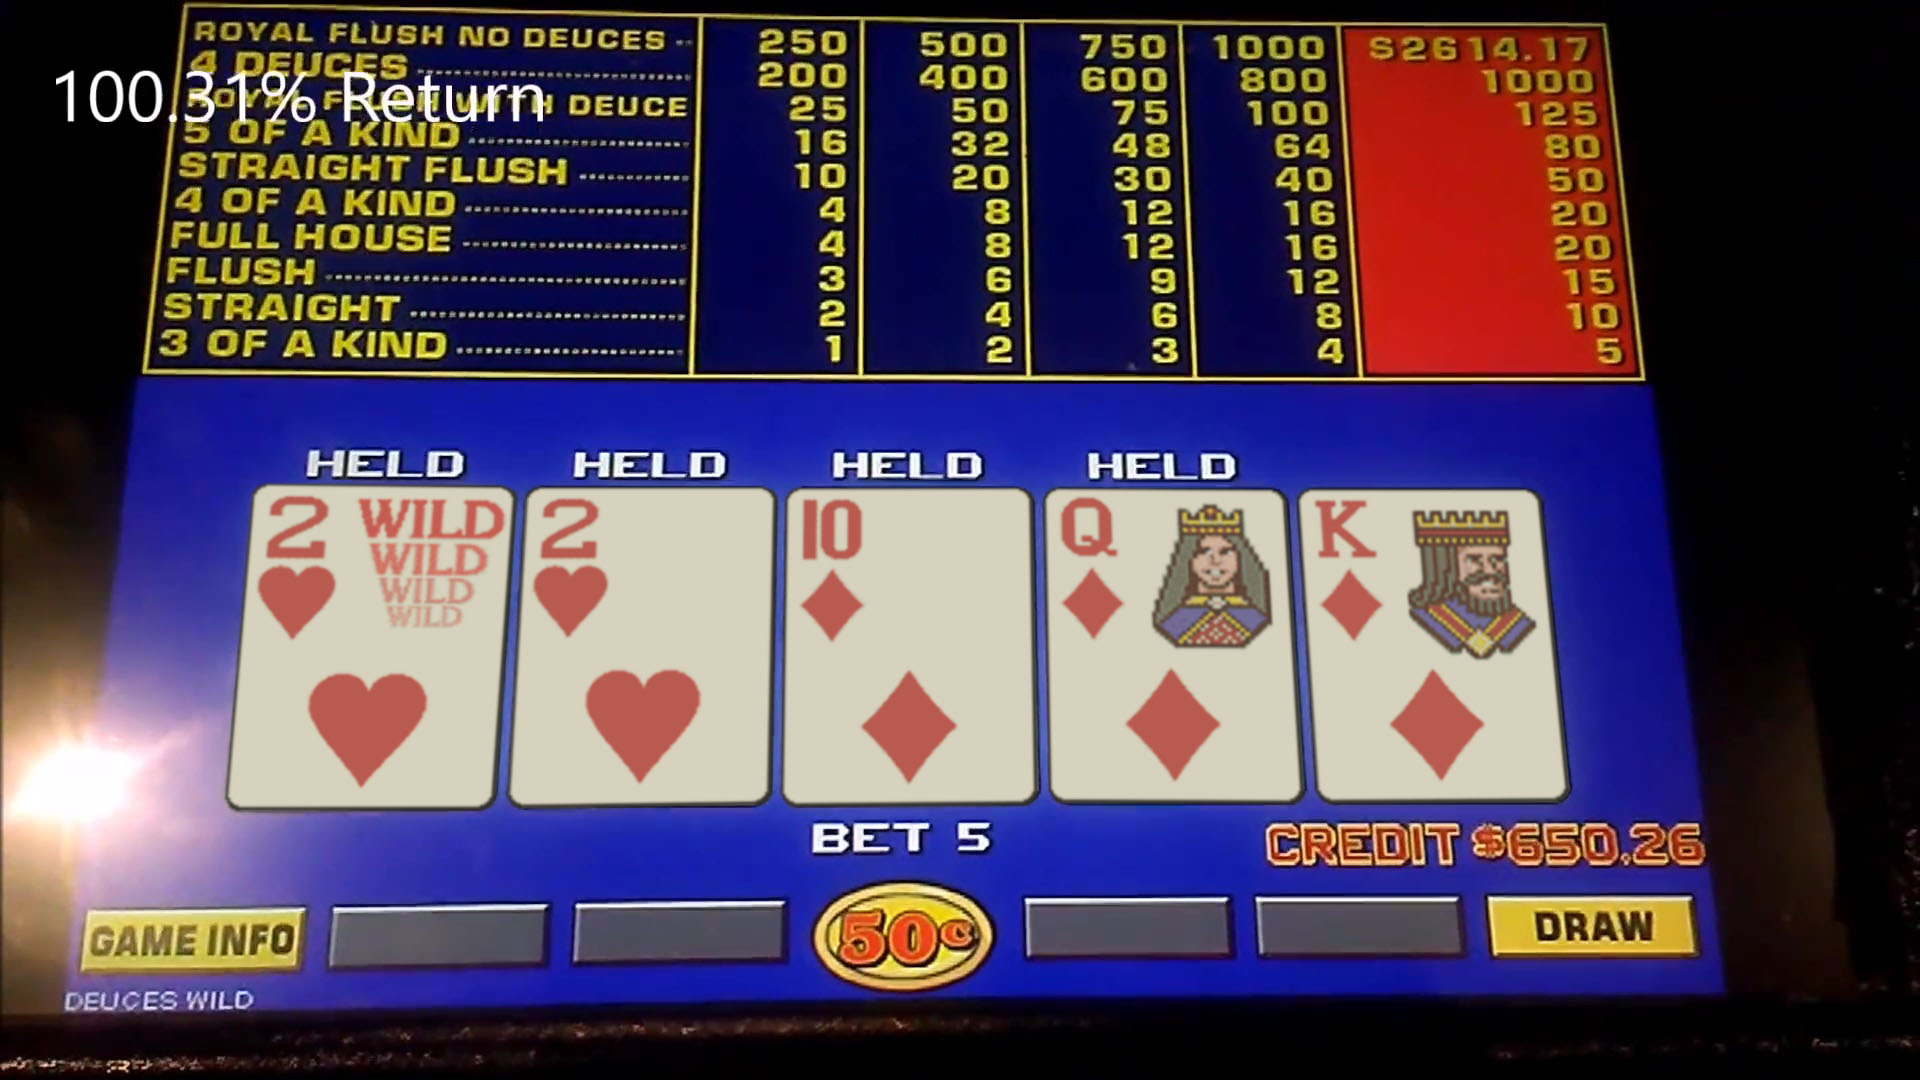DK: (1313, 492, 1539, 640)
DQ: (1048, 492, 1287, 640)
DT: (786, 489, 1030, 644)
H2: (526, 489, 770, 642)
H2W: (251, 487, 501, 644)
